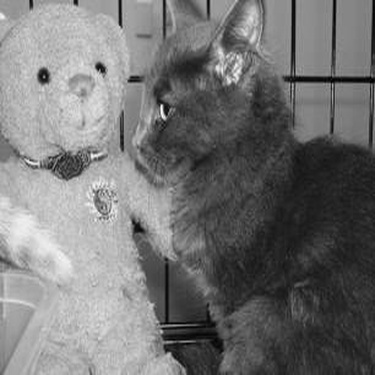cat: (134, 1, 370, 371)
